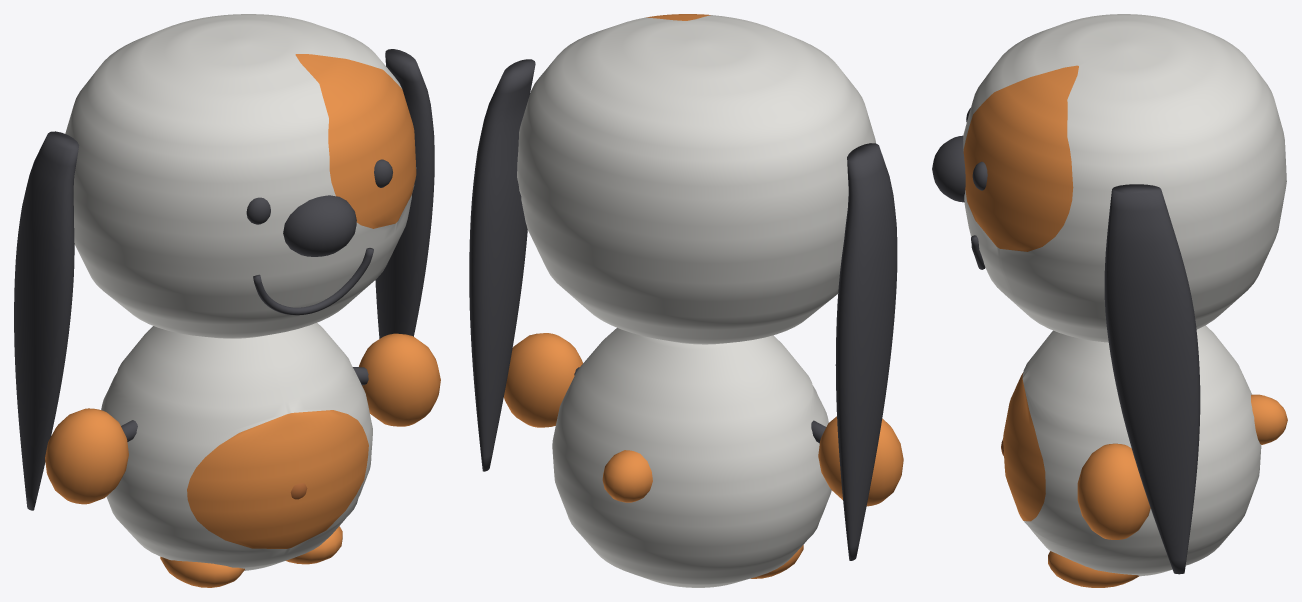
File: Panxeta.fbx
The picture shows the model from 3 angles, left to right: view 1: azimuth 30°, elevation 25°; view 2: azimuth 150°, elevation 25°; view 3: azimuth 270°, elevation 25°; orthographic projection. The views are drawn at different scales.
Parts seen in each view (by area): view 1: Cabeza, Cuerpo, Oreja_Izq, Oreja_Der, Mano_Izq, Mano_Der, Nariz, Pie_Izq, Boca, Pie_Der; view 2: Cabeza, Cuerpo, Oreja_Izq, Oreja_Der, Mano_Der, Mano_Izq, Cola; view 3: Cabeza, Cuerpo, Oreja_Der, Mano_Der, Nariz, Pie_Der, Cola.
Part boxes in pixels (bbox=[...]): Cabeza: bbox=[65, 14, 416, 338]; Cuerpo: bbox=[101, 323, 372, 570]; Oreja_Izq: bbox=[14, 131, 79, 510]; Oreja_Der: bbox=[375, 49, 434, 338]; Mano_Izq: bbox=[45, 408, 128, 504]; Mano_Der: bbox=[359, 333, 440, 426]; Nariz: bbox=[283, 195, 356, 256]; Pie_Izq: bbox=[160, 556, 244, 587]; Boca: bbox=[253, 248, 373, 315]; Pie_Der: bbox=[286, 526, 342, 564]; Cabeza: bbox=[517, 14, 875, 344]; Cuerpo: bbox=[552, 328, 831, 587]; Oreja_Izq: bbox=[835, 143, 897, 560]; Oreja_Der: bbox=[469, 59, 535, 471]; Mano_Der: bbox=[503, 333, 582, 427]; Mano_Izq: bbox=[818, 416, 903, 506]; Cola: bbox=[602, 450, 652, 502]; Cabeza: bbox=[963, 14, 1286, 342]; Cuerpo: bbox=[1003, 325, 1261, 576]; Oreja_Der: bbox=[1104, 184, 1200, 574]; Mano_Der: bbox=[1077, 443, 1150, 539]; Nariz: bbox=[932, 135, 965, 202]; Pie_Der: bbox=[1048, 551, 1139, 587]; Cola: bbox=[1251, 394, 1287, 444].
Bounding box in the file's own units: 21.4 × 26.6 × 16.7.
